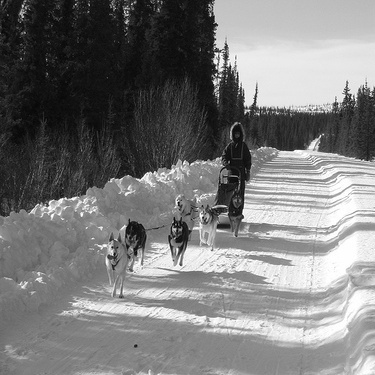dog: (89, 224, 134, 305), (110, 212, 151, 274), (157, 211, 193, 270), (219, 181, 250, 240), (166, 188, 199, 235), (196, 200, 222, 254)
